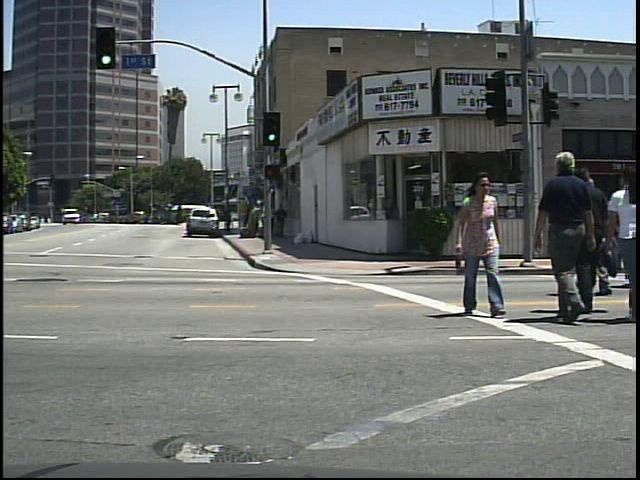person: (540, 144, 601, 321), (453, 168, 510, 319)
